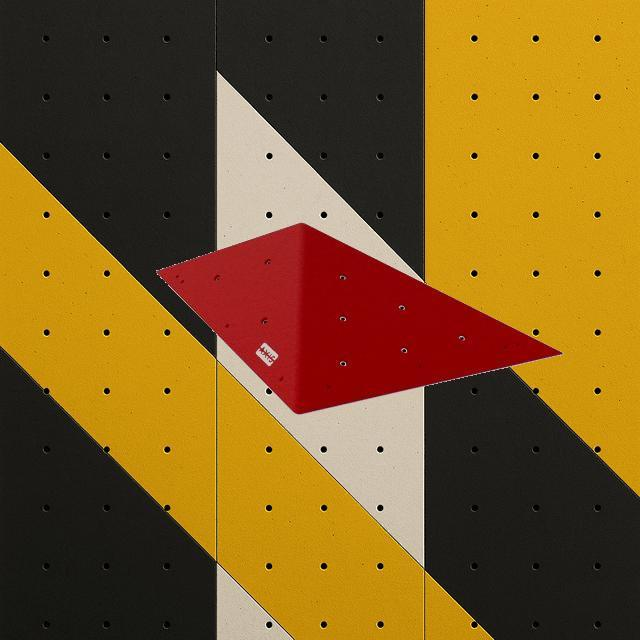Volume: (151, 221, 563, 415)
